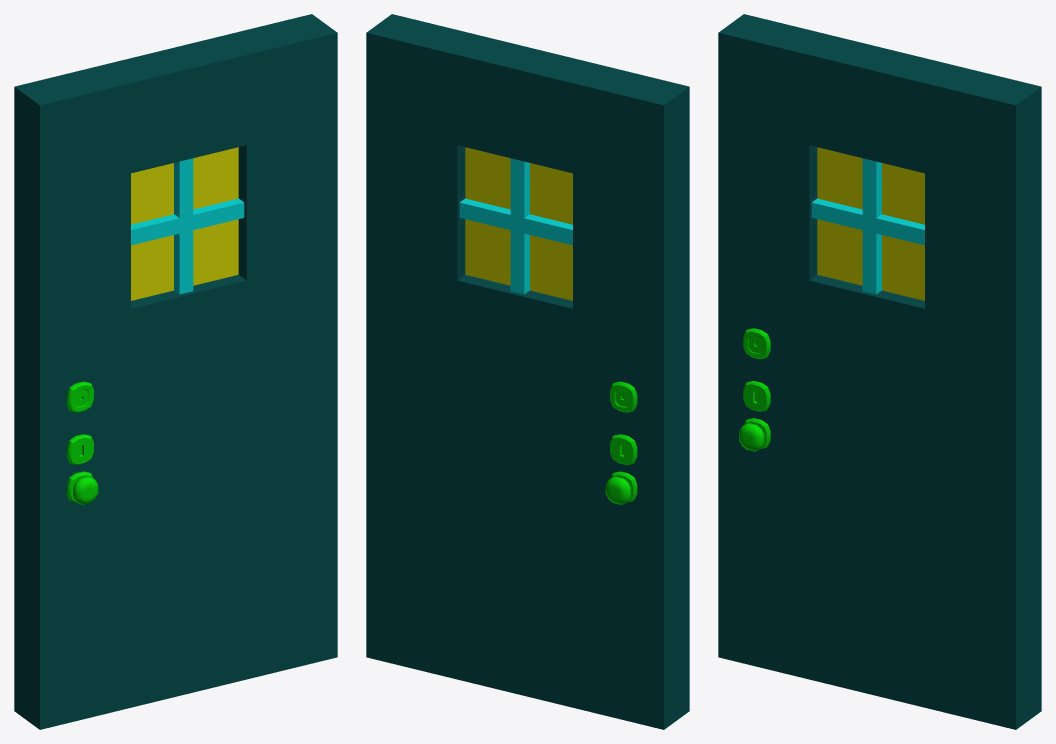
Rendered from front_door.fbx.
The picture shows the model from 3 angles, left to right: view 1: azimuth 30°, elevation 25°; view 2: azimuth 150°, elevation 25°; view 3: azimuth 330°, elevation 25°; orthographic projection.
Parts seen in each view (by area): view 1: front_door; view 2: front_door; view 3: front_door.
Part boxes in pixels (x1,y1,x2,y2): front_door: (14, 14, 337, 729); front_door: (366, 14, 689, 729); front_door: (718, 14, 1041, 729).
Bounding box in the file's own units: 6.7 × 13.42 × 1.74.
